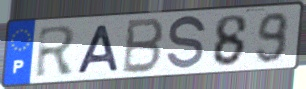8: (212, 13, 250, 68)
9: (253, 11, 291, 66)
A: (75, 24, 121, 76)
B: (120, 16, 167, 76)
R: (34, 24, 78, 80)
S: (164, 13, 209, 74)
